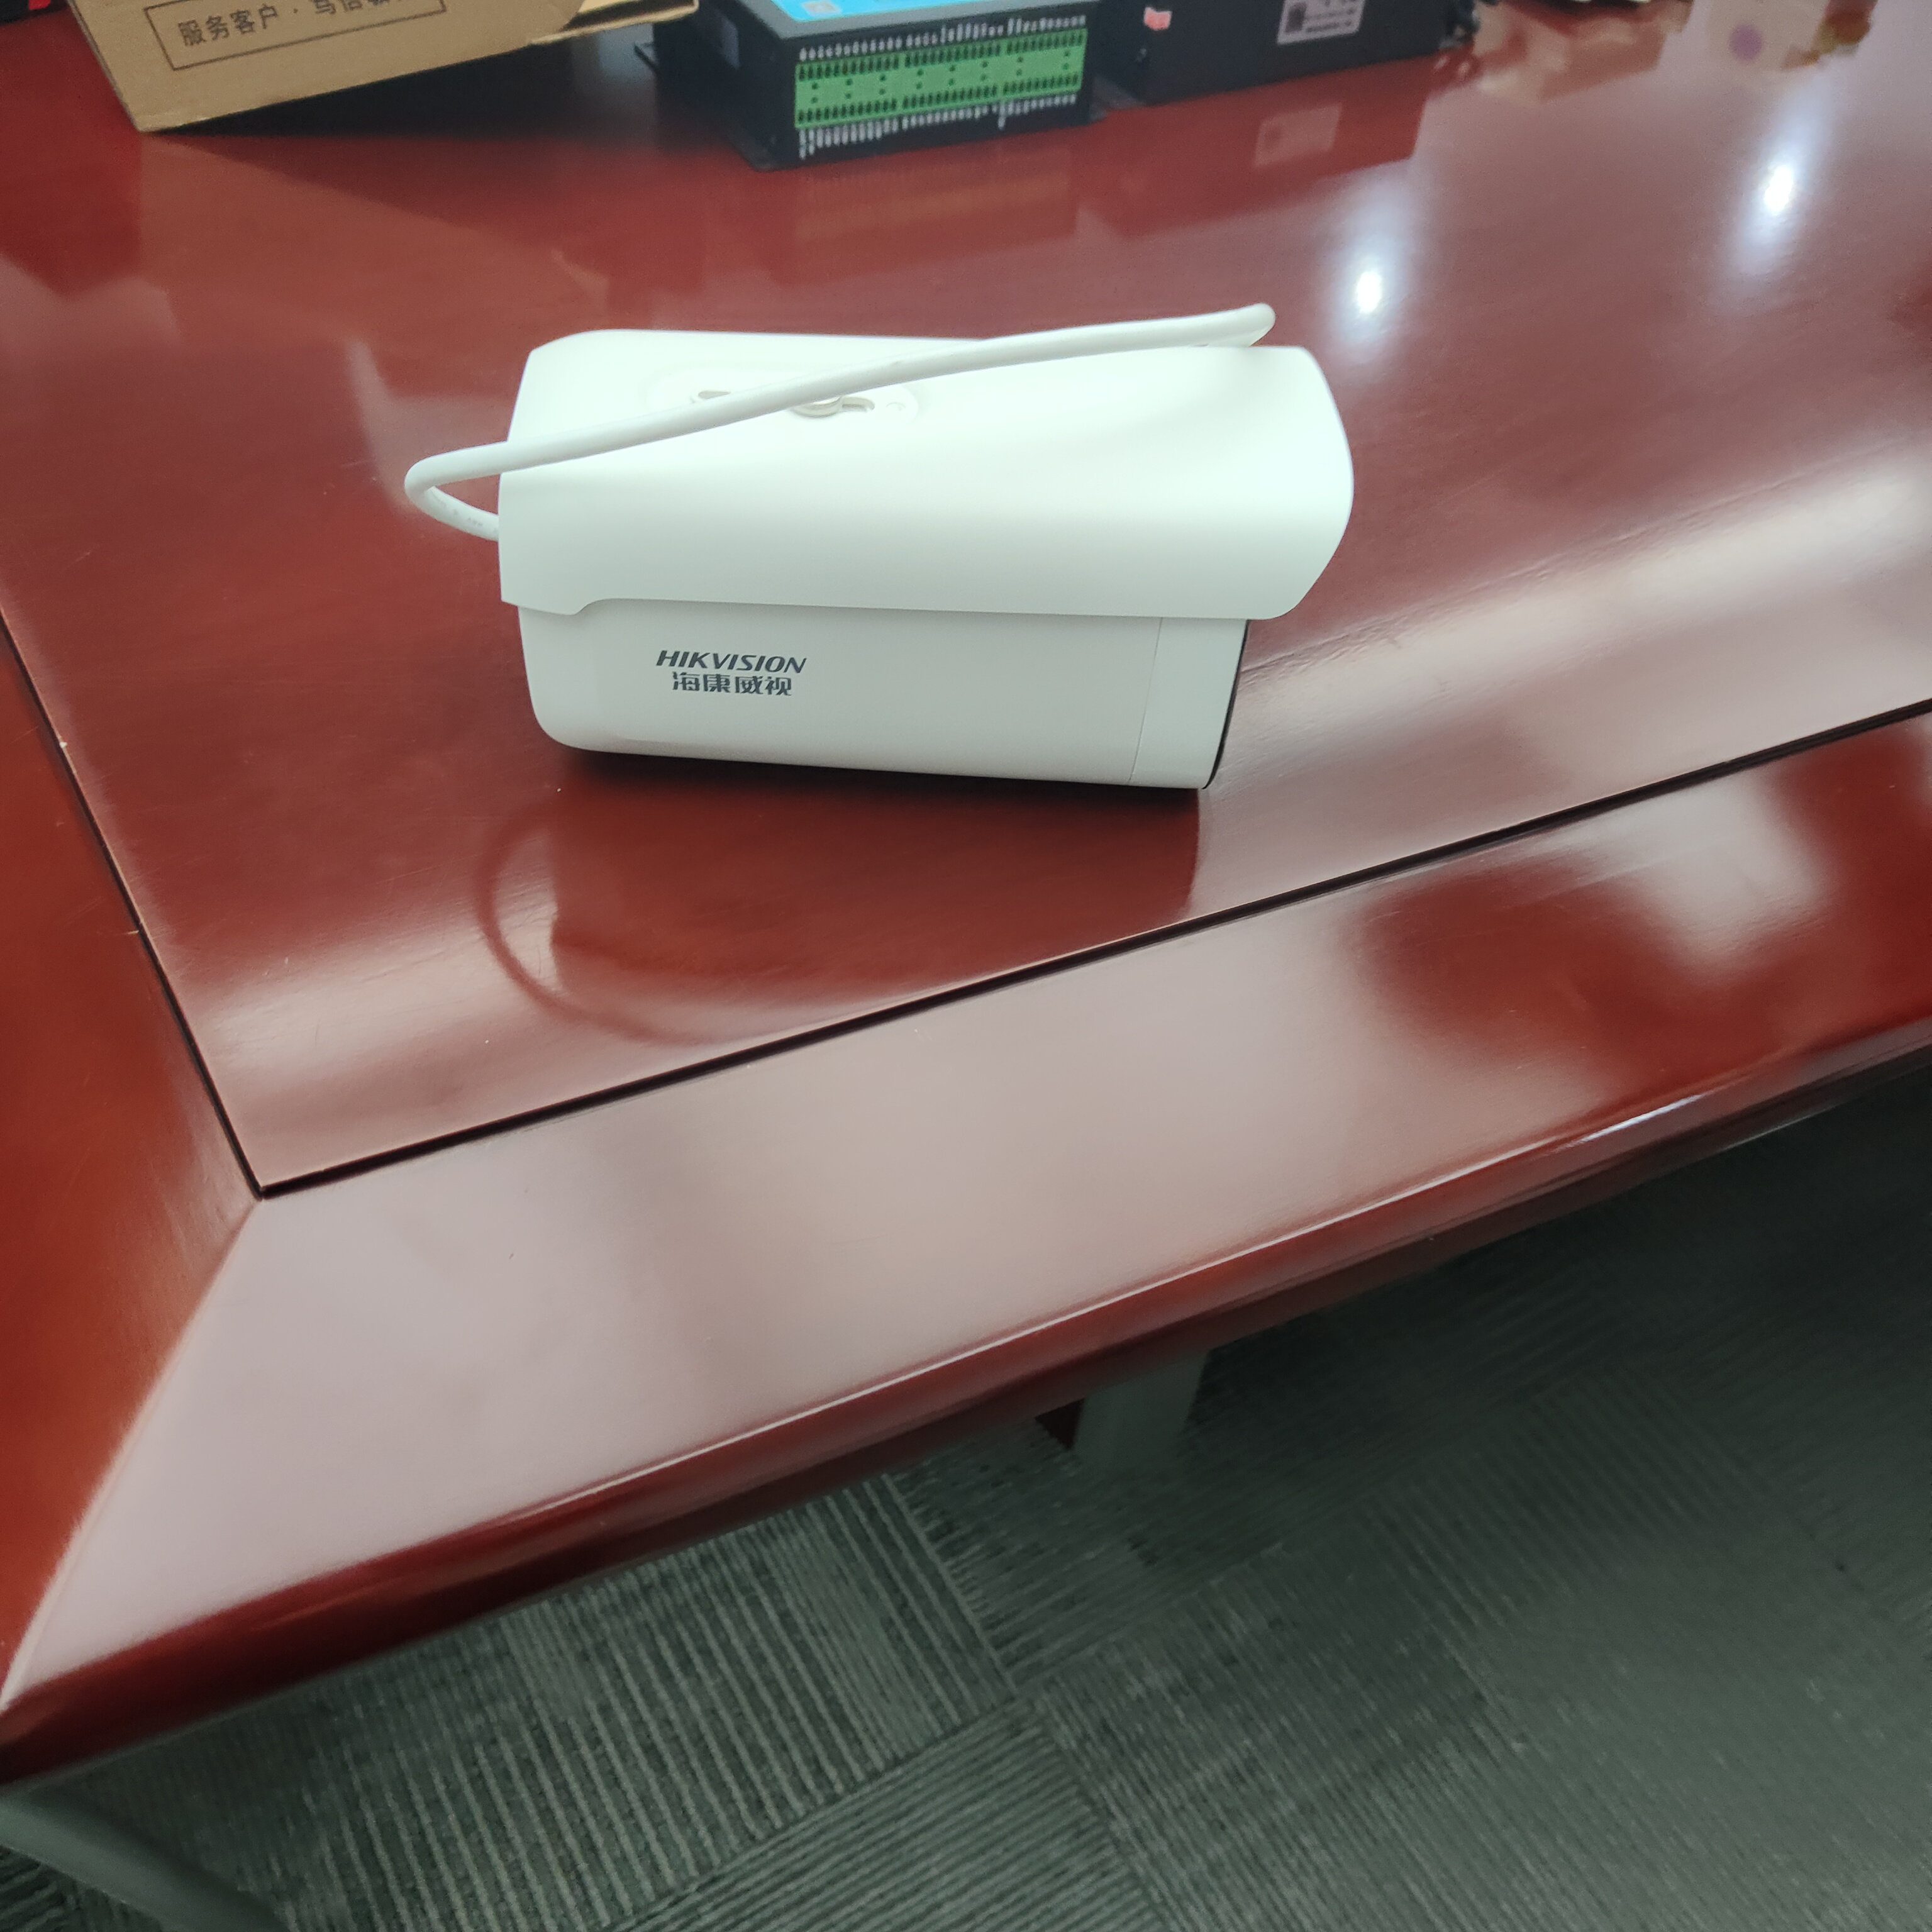hkws: (455, 308, 1361, 855)
slyczd: (649, 5, 1099, 165)
